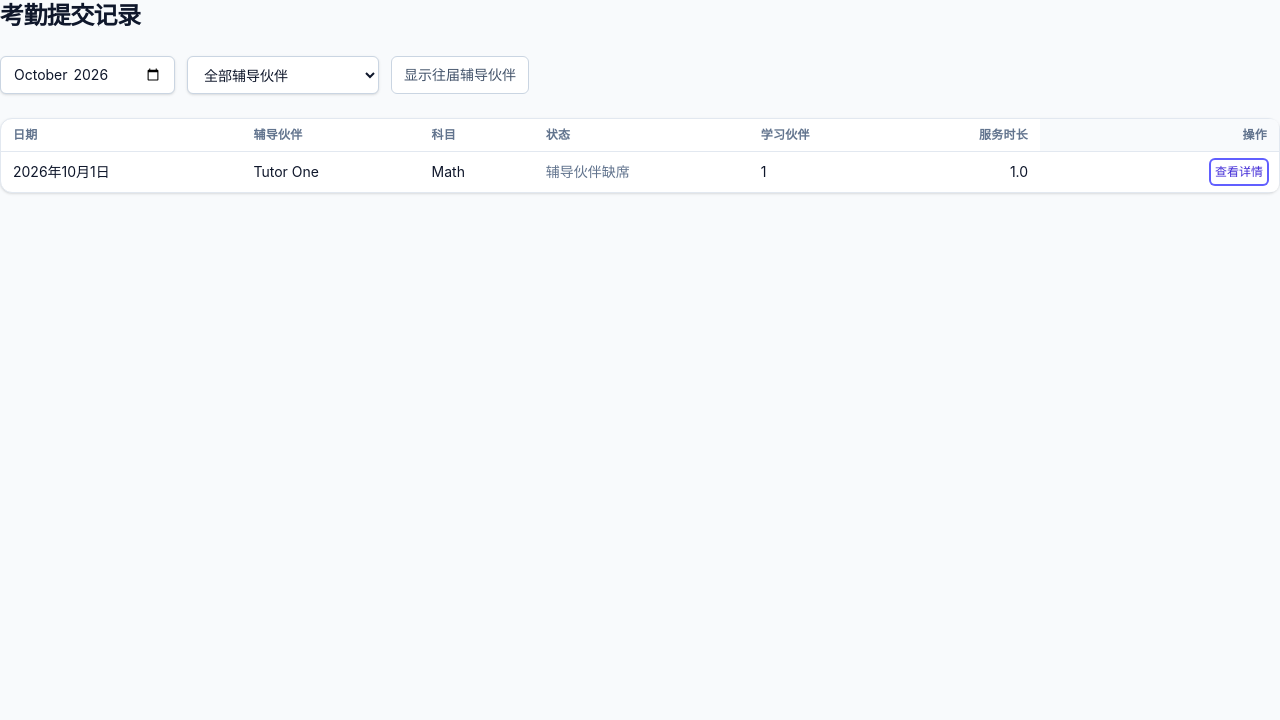
renders the attendance summary and detail from the observer projection in zh
expect the text "Tutor One" is shown: met, box [242, 152, 420, 192]
expect the text "Tutee One" is not shown: met
Click the button "查看详情": (1239,172) [1211, 160, 1267, 184]
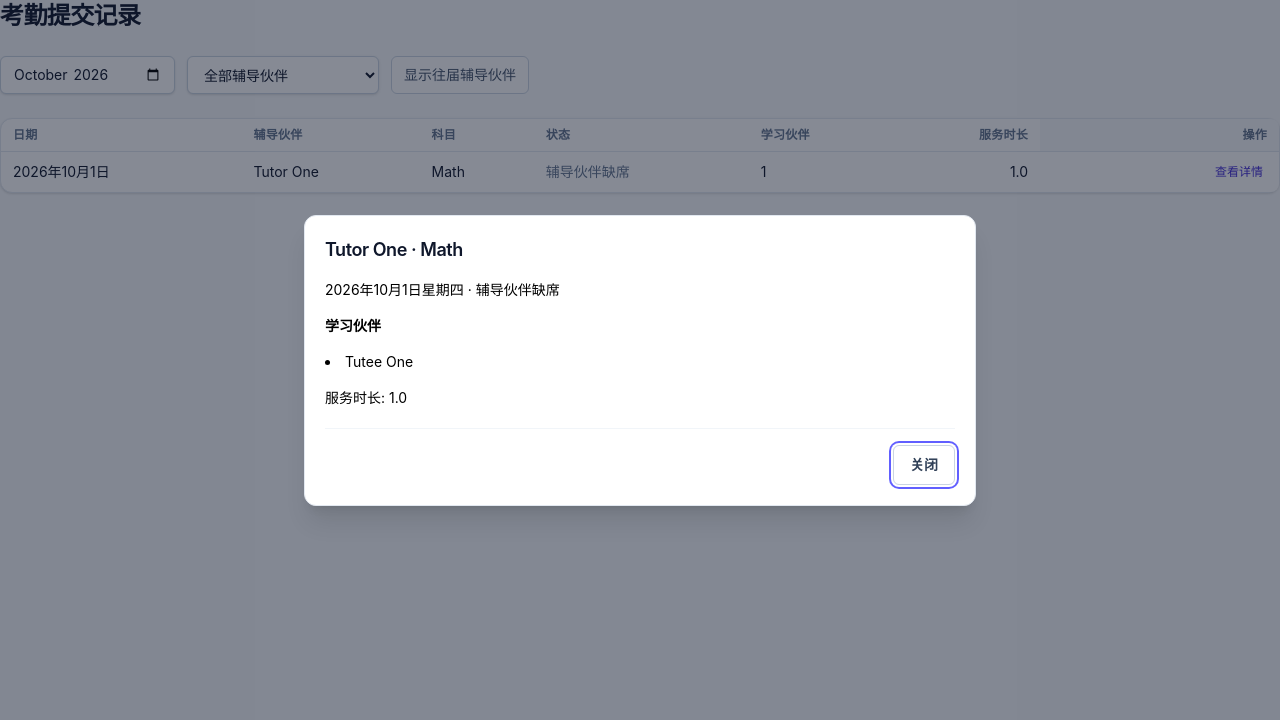
expect the list item "Tutee One" is shown: met, box [345, 352, 413, 370]
Click the button "关闭": (924,464) [893, 444, 955, 484]
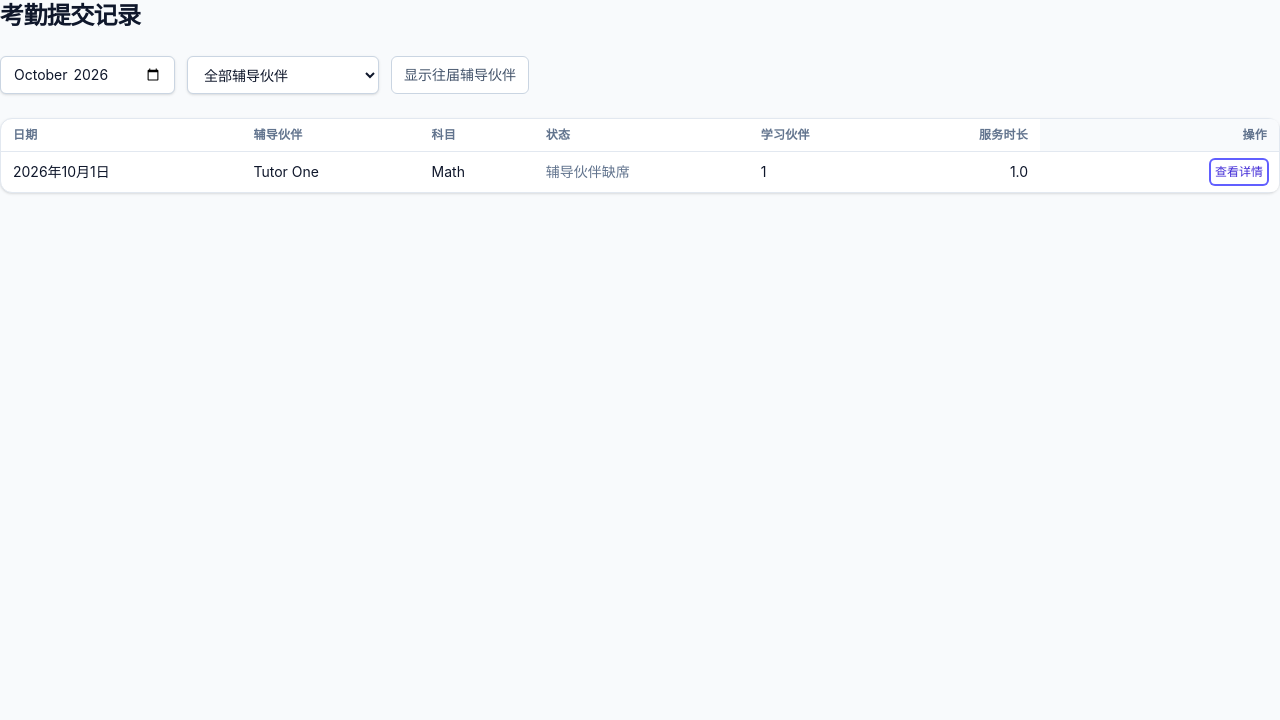
expect the dialog is gone: met
